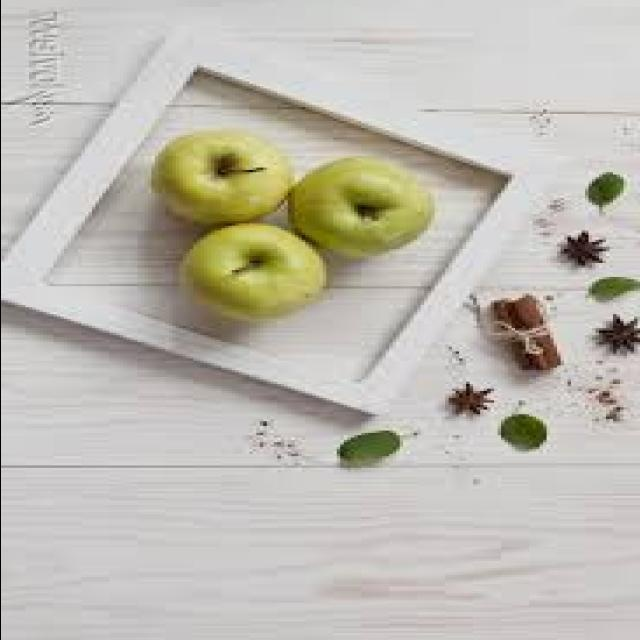agrume: (179, 219, 363, 329), (271, 155, 434, 265), (147, 120, 313, 220)
